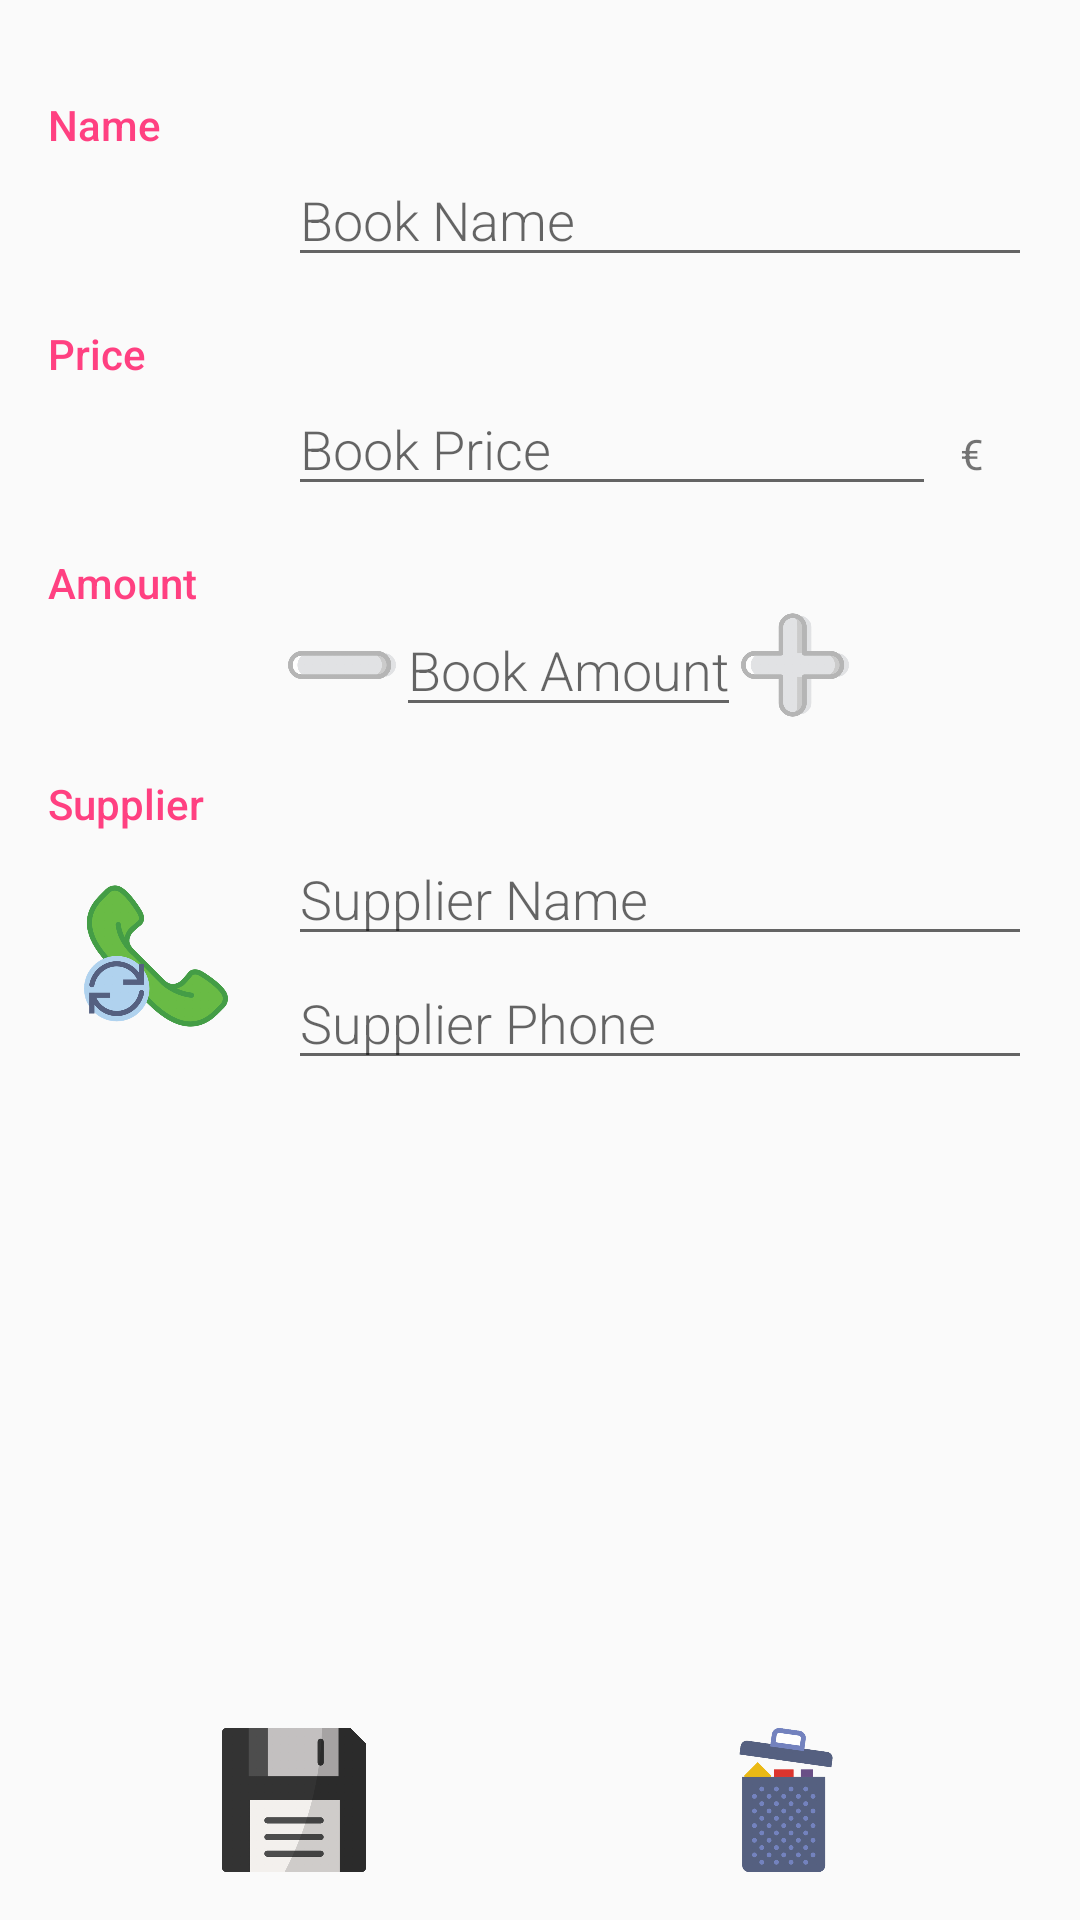

Locate icon controls on the screen. Image size 1080px×1920px, boxes as (x1, y1, x2, y2).
diskette: (222, 1728, 366, 1872)
removebook: (739, 1728, 833, 1872)
